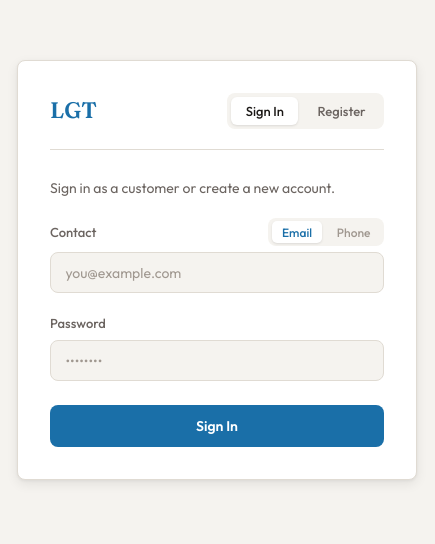
Scenario: AuthPage — switching to register mode › shows Full Name field
Click the button "Register": (342, 111) x1=303 y1=97 x2=380 y2=124
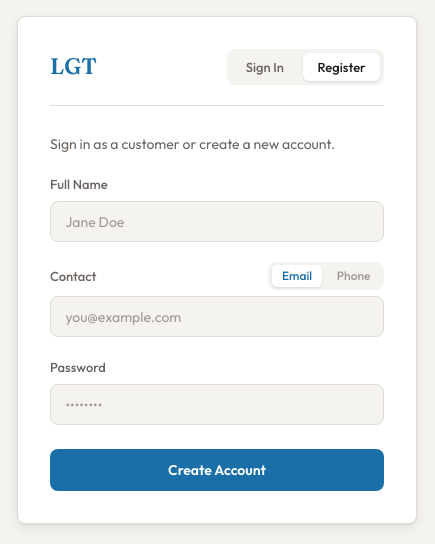
expect the field with placeholder "Jane Doe" is shown: met, box x1=50 y1=201 x2=384 y2=242
